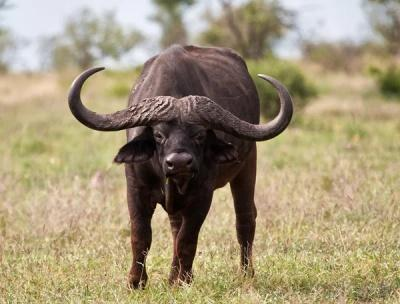buffalo: (68, 44, 292, 288), (68, 43, 292, 286)
